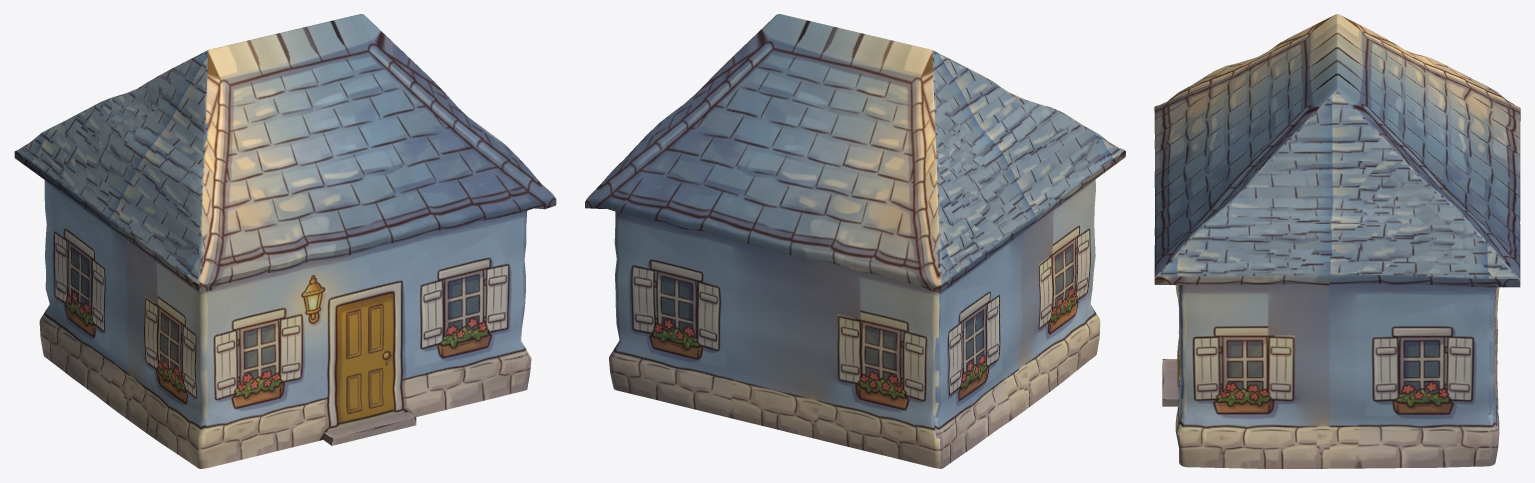
File: havre_maison_1.glb
3 renders of one model, left to right at view 1: azimuth 30°, elevation 25°; view 2: azimuth 150°, elevation 25°; view 3: azimuth 270°, elevation 25°, orthographic.
Parts seen in each view (by area): view 1: maison; view 2: maison; view 3: maison.
Part boxes in pixels (x1,y1,x2,y2): maison: [14, 14, 556, 468]; maison: [585, 14, 1125, 468]; maison: [1154, 14, 1520, 468].
Bounding box in the file's own units: 6.18 × 5.65 × 5.55.
Materials: 1 (1 with a texture image).
